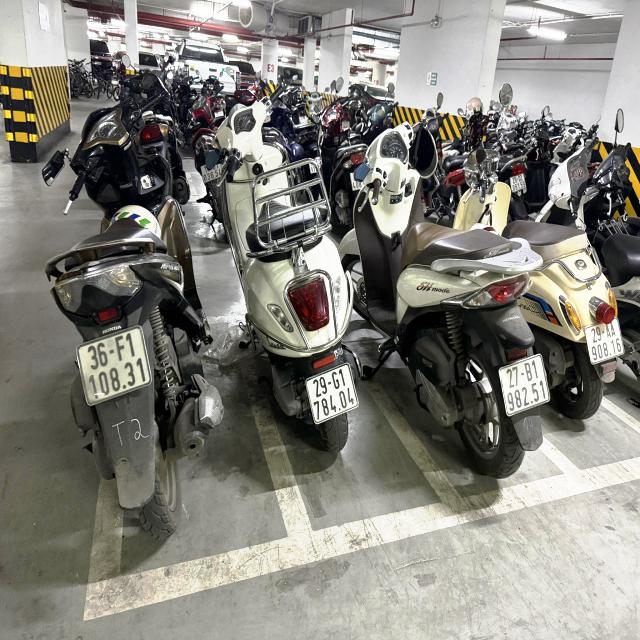license_plate: (75, 324, 154, 409), (304, 361, 361, 428), (498, 352, 553, 419), (585, 317, 627, 367)
